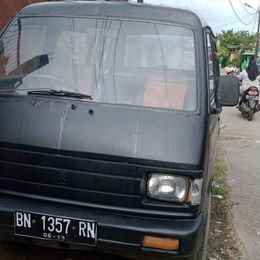plate: (11, 207, 102, 253)
